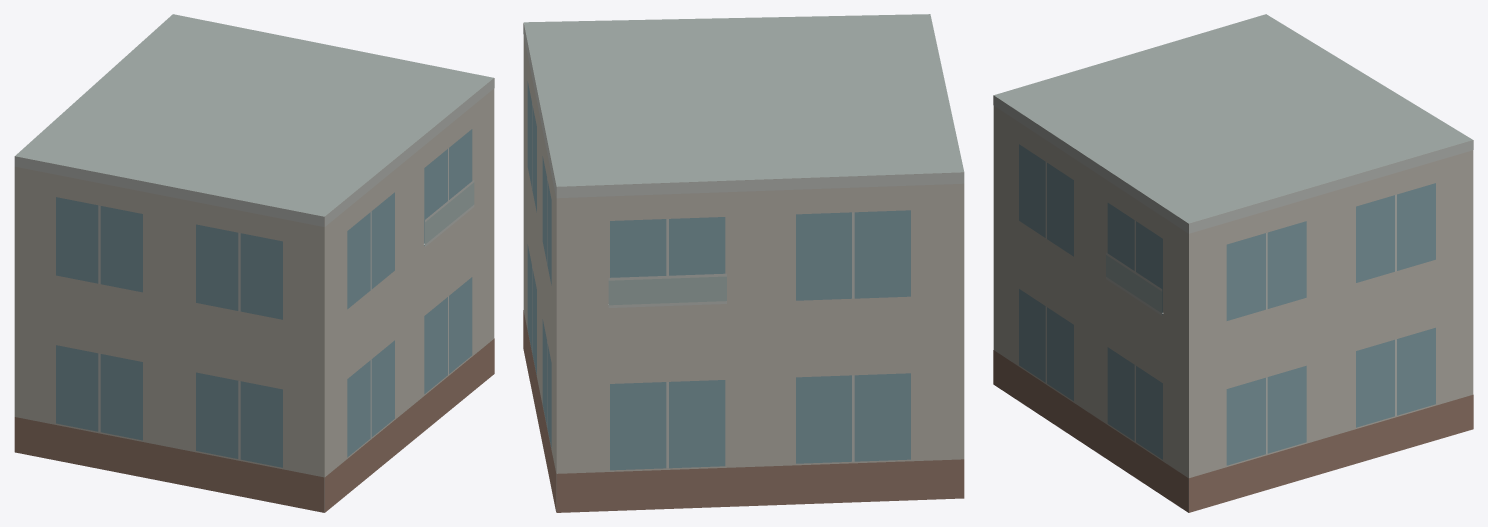
Rendered from survey-upis-32494813.glb.
3 views of the same model, side by side, from view 1: azimuth 30°, elevation 25°; view 2: azimuth 150°, elevation 25°; view 3: azimuth 270°, elevation 25° (orthographic). The views are drawn at different scales.
Parts seen in each view (by area): view 1: survey-upis-32494813.tmp; view 2: survey-upis-32494813.tmp; view 3: survey-upis-32494813.tmp.
Boxes of the visible parts, x1=… form: survey-upis-32494813.tmp: x1=14, y1=14, x2=494, y2=512; survey-upis-32494813.tmp: x1=523, y1=14, x2=964, y2=512; survey-upis-32494813.tmp: x1=993, y1=14, x2=1473, y2=512.
Bounding box in the file's own units: 10.82 × 6.95 × 10.46.
